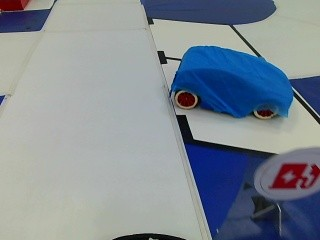battery: (260, 147, 318, 201)
car: (156, 42, 299, 124)
